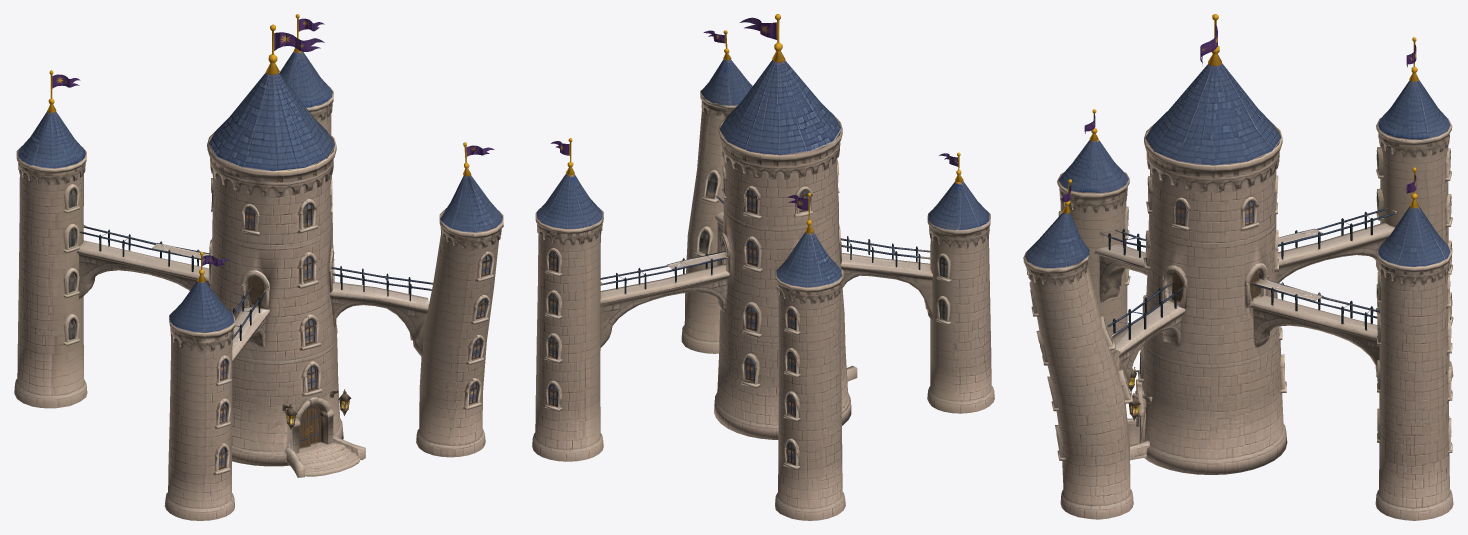
The model's file is Furn_Dorm_Adventurer2.fbx.
3 views of the same model, side by side, from view 1: azimuth 30°, elevation 25°; view 2: azimuth 150°, elevation 25°; view 3: azimuth 270°, elevation 25° (orthographic). The views are drawn at different scales.
Parts seen in each view (by area): view 1: Furn_Dorm_Adventurer2; view 2: Furn_Dorm_Adventurer2; view 3: Furn_Dorm_Adventurer2.
Boxes of the visible parts, box(x1,y1,x2,y2) form: Furn_Dorm_Adventurer2: box(14, 14, 503, 520); Furn_Dorm_Adventurer2: box(532, 14, 994, 520); Furn_Dorm_Adventurer2: box(1023, 14, 1453, 520).
Bounding box in the file's own units: 20.97 × 26 × 23.54.
Materials: 1 (1 with a texture image).
